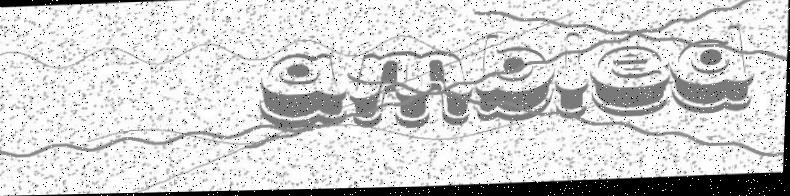a: (257, 51, 349, 131)
b: (472, 34, 557, 125)
d: (672, 27, 756, 118)
e: (588, 46, 674, 122)
l: (553, 33, 593, 123)
m: (345, 49, 475, 132)
